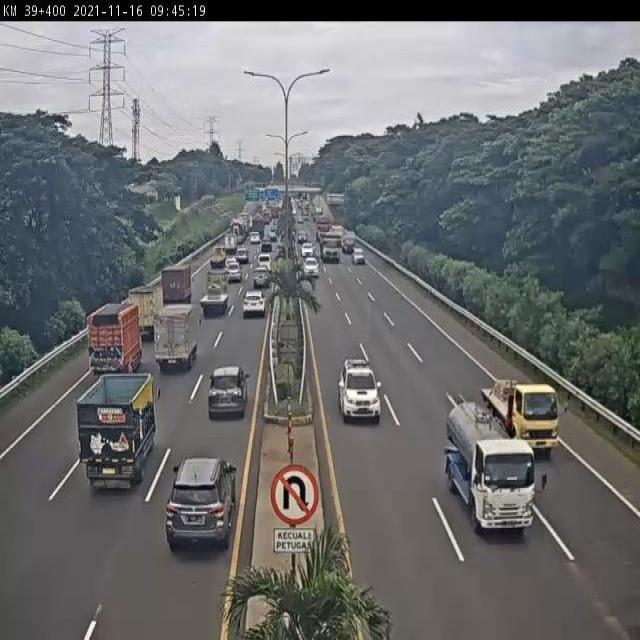car: (163, 464, 236, 556), (337, 357, 381, 423), (207, 364, 249, 417), (244, 291, 266, 317), (234, 245, 253, 268), (257, 253, 276, 275), (225, 259, 242, 280), (253, 269, 268, 288)
small truck: (445, 401, 535, 535), (486, 377, 561, 448), (145, 307, 197, 377), (123, 288, 163, 341), (161, 263, 192, 309), (208, 246, 228, 270)
truck-m-: (79, 371, 160, 489), (87, 298, 144, 378), (201, 270, 230, 318)
